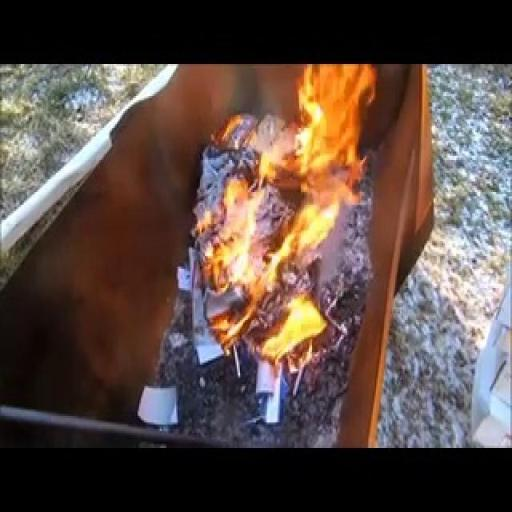smoke: (189, 64, 360, 367)
